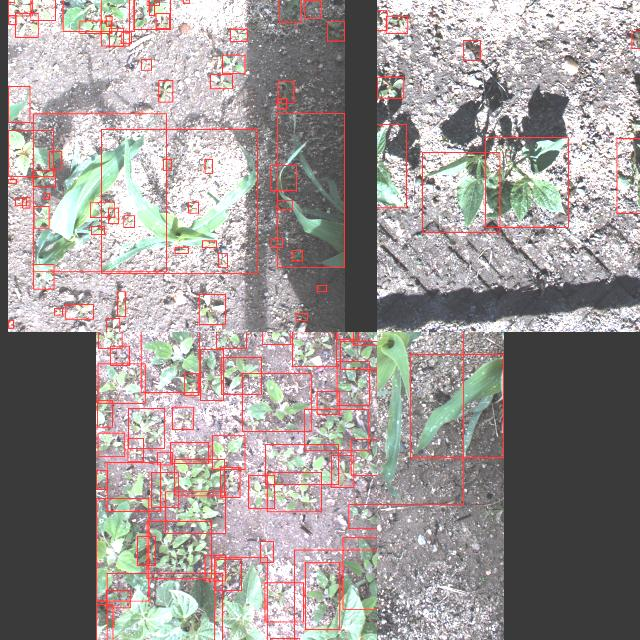crop: (100, 128, 258, 274), (32, 113, 166, 271), (377, 332, 462, 504), (278, 113, 344, 267), (409, 353, 503, 457), (106, 573, 222, 640), (293, 549, 377, 640), (484, 137, 568, 227), (421, 152, 499, 232), (95, 498, 148, 600), (213, 556, 266, 640), (139, 332, 198, 392), (377, 123, 405, 207), (616, 137, 640, 212), (7, 86, 29, 122)
weed: (242, 373, 310, 431), (146, 520, 210, 578), (264, 444, 338, 484), (106, 462, 160, 511), (304, 408, 368, 449), (165, 491, 225, 533), (343, 537, 377, 608), (304, 562, 340, 628), (266, 471, 322, 511), (62, 0, 134, 30), (8, 130, 52, 176), (96, 363, 144, 403), (174, 459, 224, 495), (264, 582, 304, 622), (221, 356, 261, 394), (336, 361, 369, 405), (292, 332, 336, 365), (128, 408, 164, 448), (100, 0, 128, 45), (199, 348, 223, 399), (212, 435, 244, 469), (339, 340, 377, 368), (132, 0, 169, 28), (350, 439, 377, 475), (150, 472, 178, 506), (248, 474, 274, 508), (198, 294, 226, 324), (215, 558, 241, 590), (170, 442, 208, 462), (331, 455, 353, 487), (349, 503, 377, 528), (270, 164, 296, 190), (96, 432, 124, 456), (95, 603, 112, 640), (220, 467, 240, 497), (377, 76, 403, 98), (15, 12, 38, 36), (316, 391, 339, 414), (203, 556, 224, 580), (136, 536, 154, 564), (33, 264, 53, 288), (29, 0, 54, 19), (216, 332, 246, 347), (279, 0, 300, 21), (172, 406, 192, 428), (105, 589, 129, 607), (96, 400, 112, 426), (222, 54, 244, 72), (65, 304, 93, 318), (385, 15, 407, 32), (7, 0, 31, 15), (80, 20, 110, 32), (462, 40, 480, 60), (97, 332, 121, 347), (110, 345, 128, 365), (32, 205, 48, 227), (32, 170, 54, 186), (278, 81, 294, 103), (127, 438, 143, 460), (90, 202, 114, 216), (328, 20, 344, 40), (158, 80, 172, 102), (210, 74, 232, 88), (262, 332, 290, 343), (184, 373, 198, 395), (304, 0, 320, 18), (260, 540, 272, 562), (48, 150, 62, 168), (109, 27, 123, 45), (155, 12, 169, 28), (95, 469, 106, 488), (117, 290, 125, 316), (230, 28, 247, 40), (105, 317, 118, 332), (156, 452, 172, 464), (108, 207, 118, 223), (276, 199, 292, 209), (377, 10, 385, 30), (336, 332, 358, 339), (631, 30, 640, 47), (122, 215, 134, 227), (162, 158, 172, 170), (218, 253, 226, 267), (90, 226, 104, 234), (204, 158, 212, 172), (202, 240, 216, 248), (292, 250, 302, 260), (188, 202, 198, 212), (120, 32, 130, 42), (141, 59, 151, 69), (276, 98, 286, 108), (296, 312, 308, 320), (14, 197, 26, 205), (21, 197, 29, 207), (8, 14, 16, 24), (272, 238, 282, 246), (175, 246, 188, 252), (148, 0, 153, 14), (145, 0, 158, 5), (317, 285, 327, 291), (105, 16, 111, 26), (54, 308, 62, 314), (43, 192, 49, 198), (8, 319, 12, 327), (7, 179, 15, 183)
